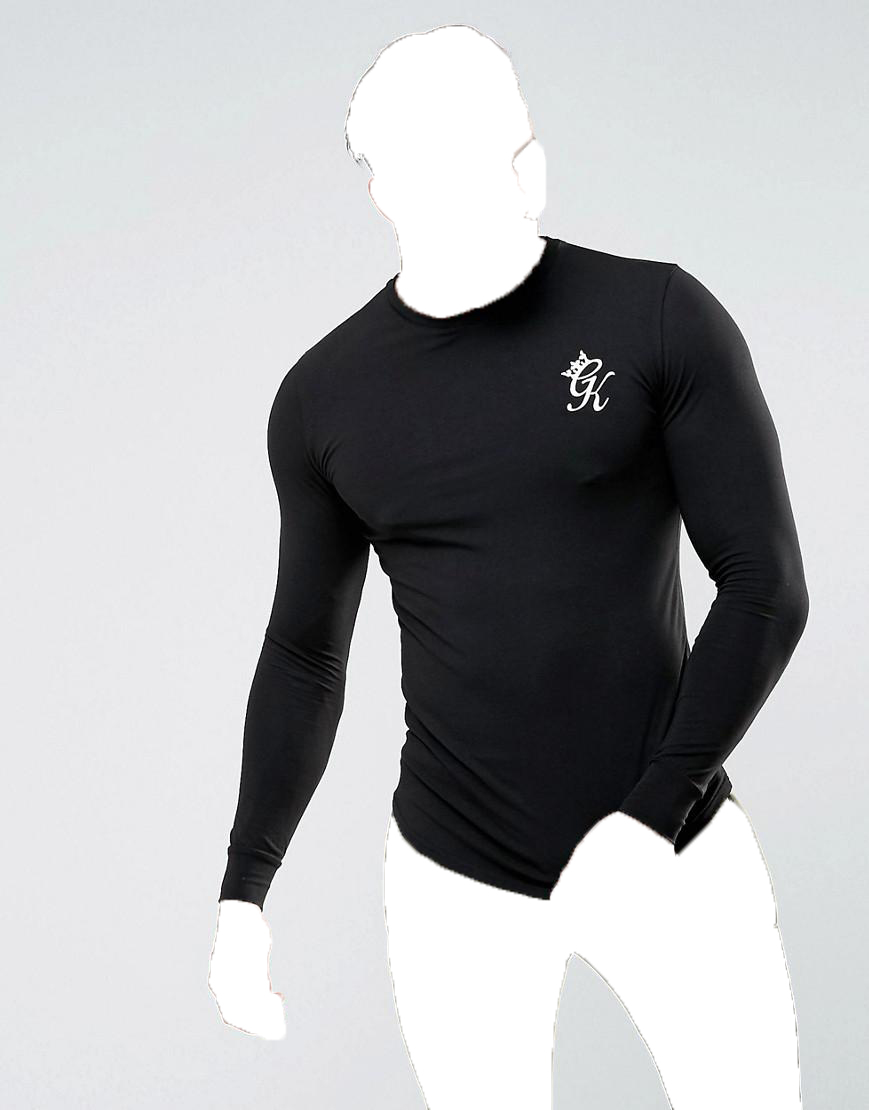teeshirt: (200, 224, 811, 912)
